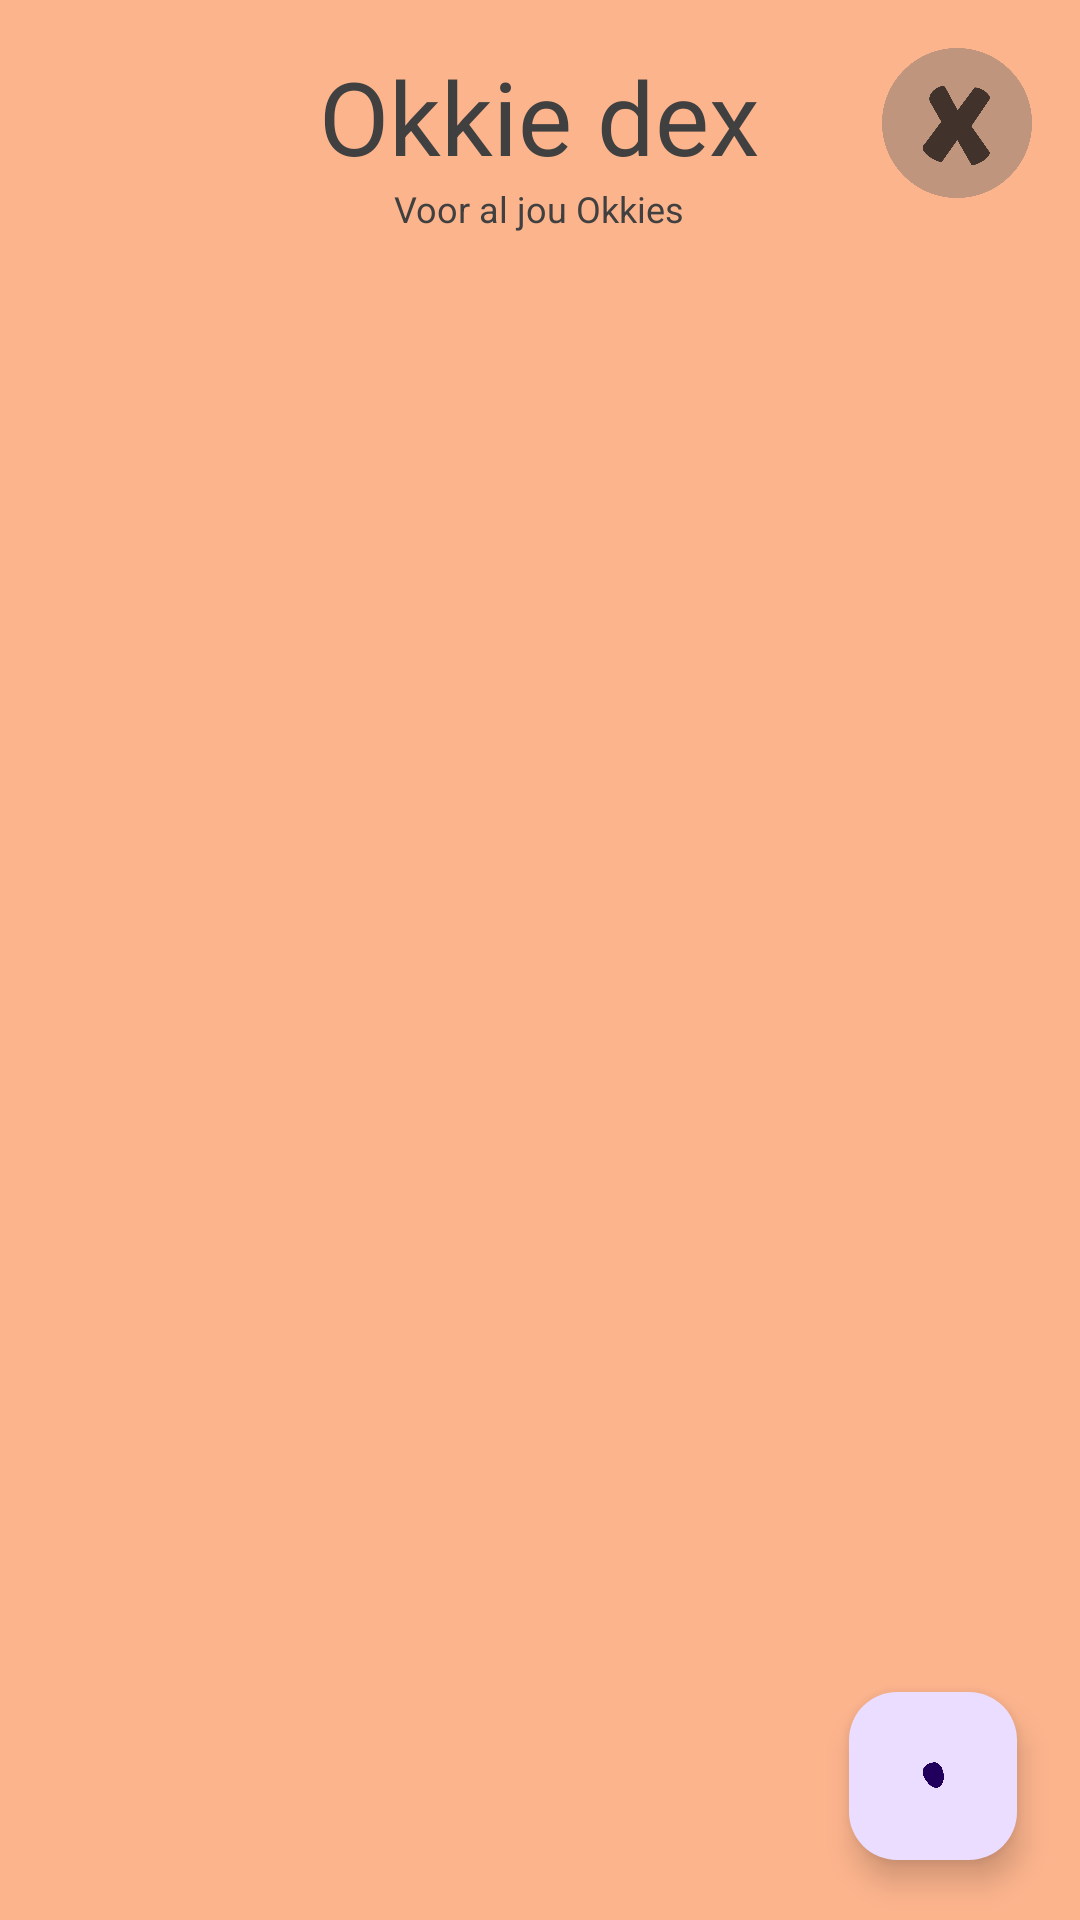

Icons on this 1080×1920 Android screen, each with the point to tap as (x,y):
xross: (957,123)
